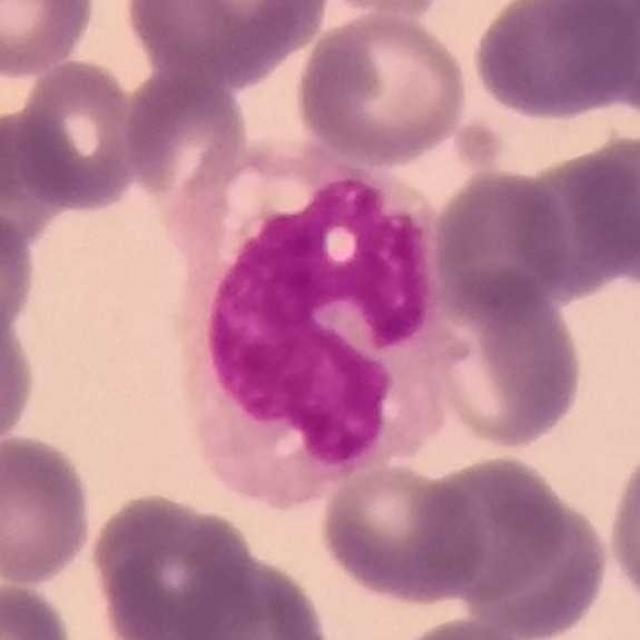Monocyte: (162, 133, 472, 499)
Platelets: (447, 115, 507, 172)
RBC: (420, 270, 588, 456), (292, 8, 473, 169), (314, 457, 491, 609), (85, 488, 260, 640), (412, 451, 573, 612), (449, 487, 613, 640), (425, 164, 573, 328), (8, 54, 146, 215), (466, 0, 639, 122), (119, 66, 252, 207), (117, 0, 327, 83), (0, 430, 97, 588), (171, 548, 334, 640), (566, 124, 639, 290), (0, 100, 73, 262), (0, 0, 99, 79), (603, 430, 640, 618), (0, 294, 40, 458), (592, 0, 640, 128), (0, 202, 41, 350), (0, 574, 79, 640), (379, 614, 553, 640)
